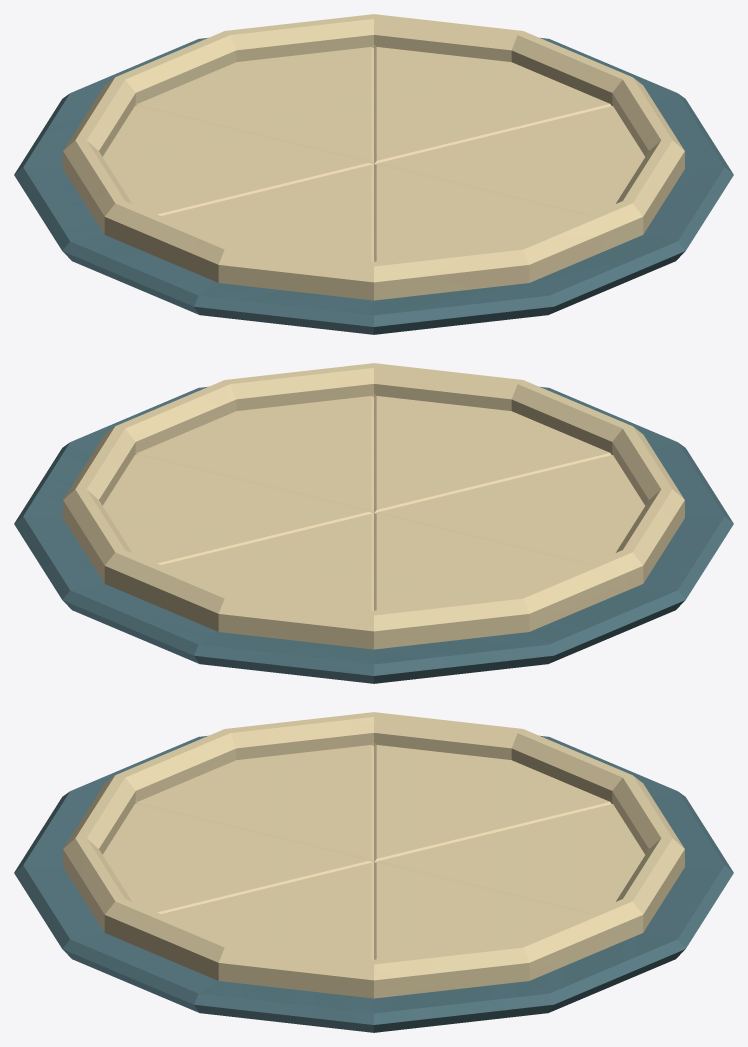
File: pizza.glb
3 views of the same model, one above another, from view 1: azimuth 30°, elevation 25°; view 2: azimuth 150°, elevation 25°; view 3: azimuth 270°, elevation 25° (orthographic).
Visible parts, largest first — view 1: Pizza.001; view 2: Pizza.001; view 3: Pizza.001.
Part boxes in pixels (box(x1,y1,x2,y2)): Pizza.001: box(14, 14, 733, 334); Pizza.001: box(14, 363, 733, 683); Pizza.001: box(14, 712, 733, 1032).
Bounding box in the file's own units: 0.6902 × 0.05 × 0.6902.
Materials: 1 (1 with a texture image).
